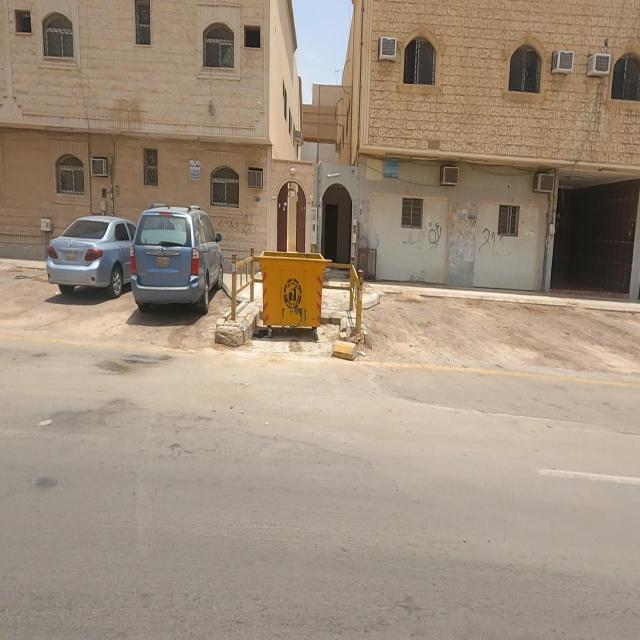Graffiti: (218, 216, 256, 236), (479, 230, 506, 256), (402, 232, 429, 251), (429, 223, 443, 254)
